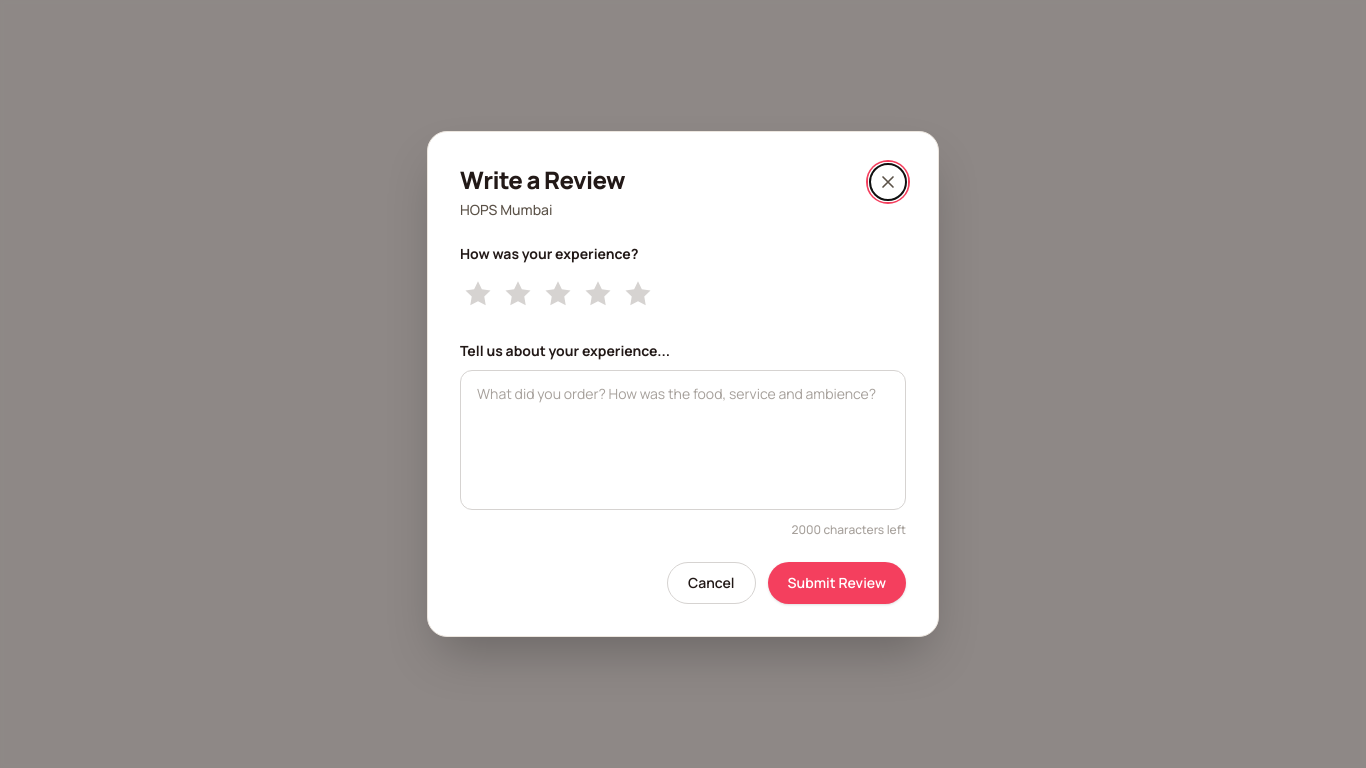
Test: WriteReviewModal validation › shows an error state when the API fails
Click the radio button named "Rate 4 stars": click(598, 294) [580,276,616,312]
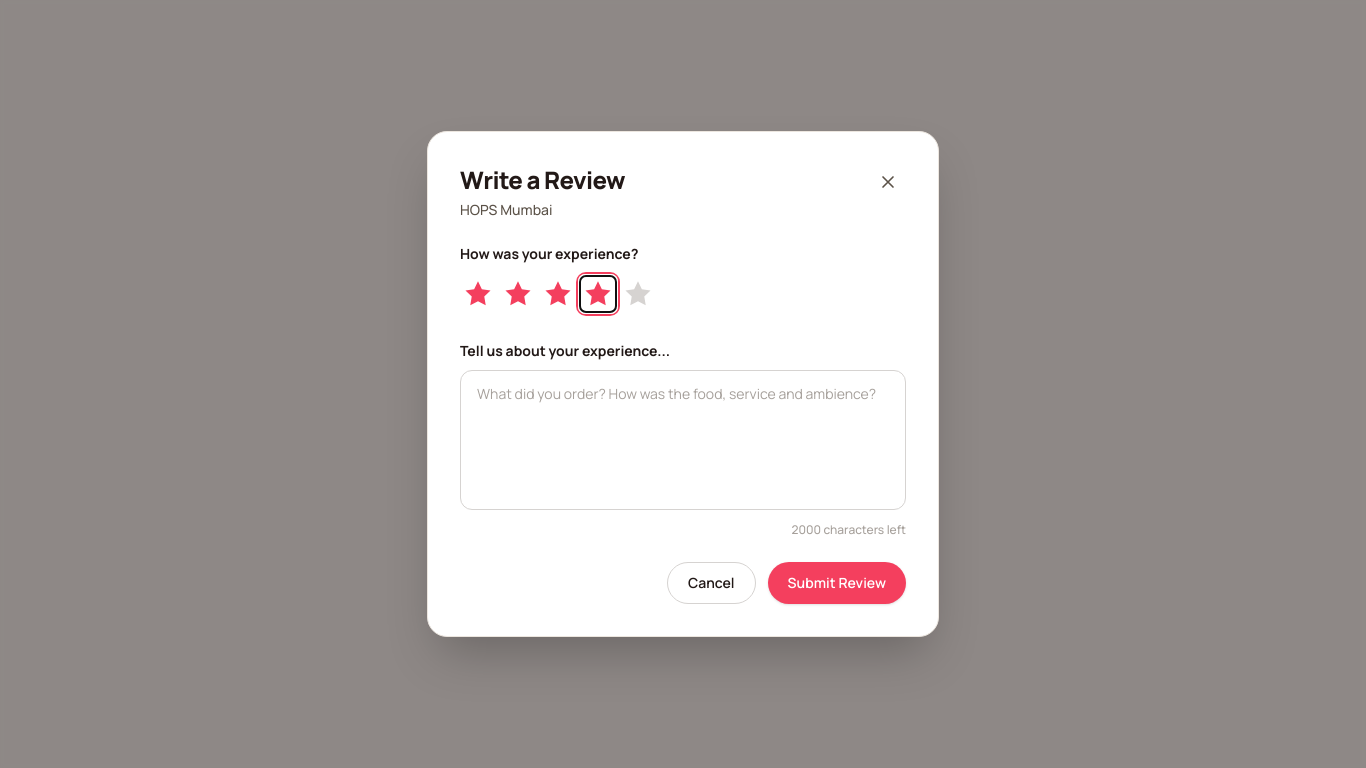
In the text box labelled "Tell us about your experience...": (683, 440) [460,370,906,510], type "A decent meal but the service was noticeably slow that evening."
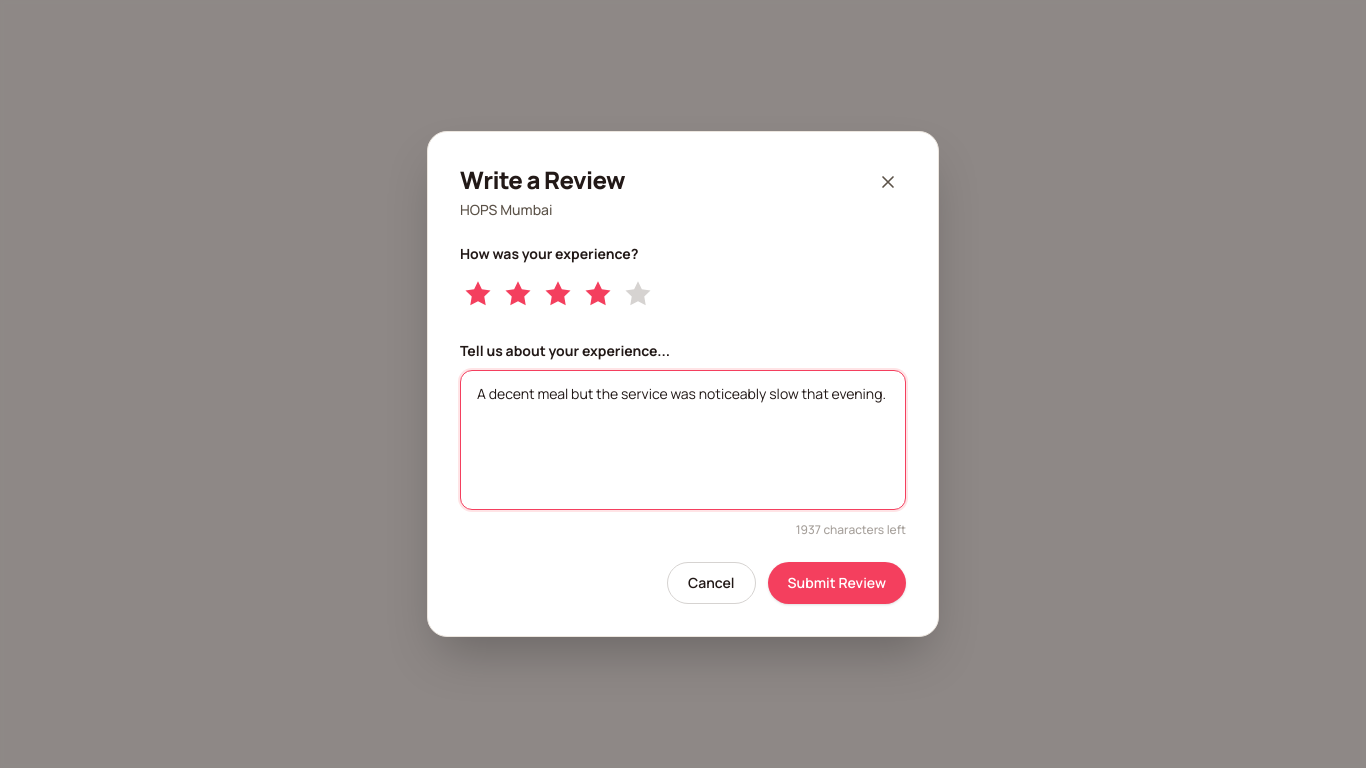
Click the button "Submit Review": click(837, 583) [768,562,906,604]
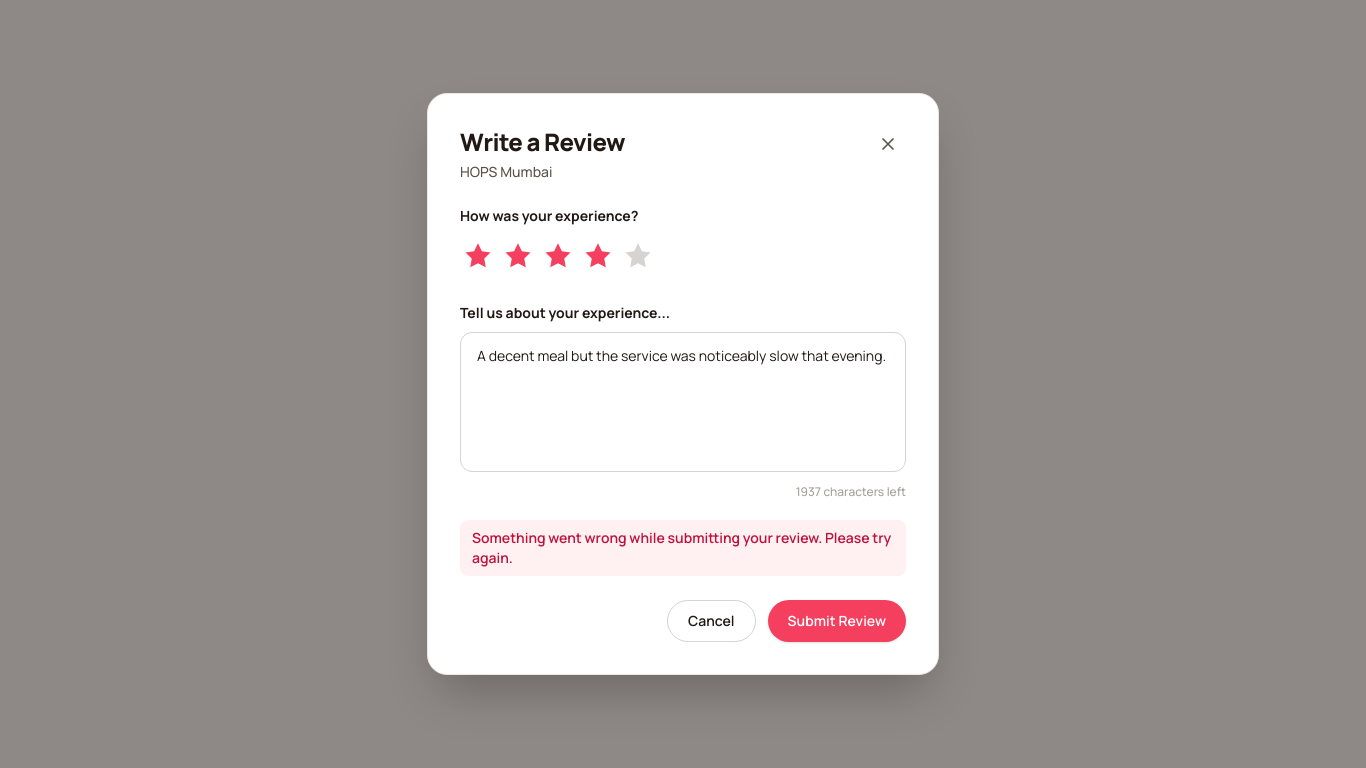
Expected: the message shows "Something went wrong while submitting your review", [472,528,891,567]
